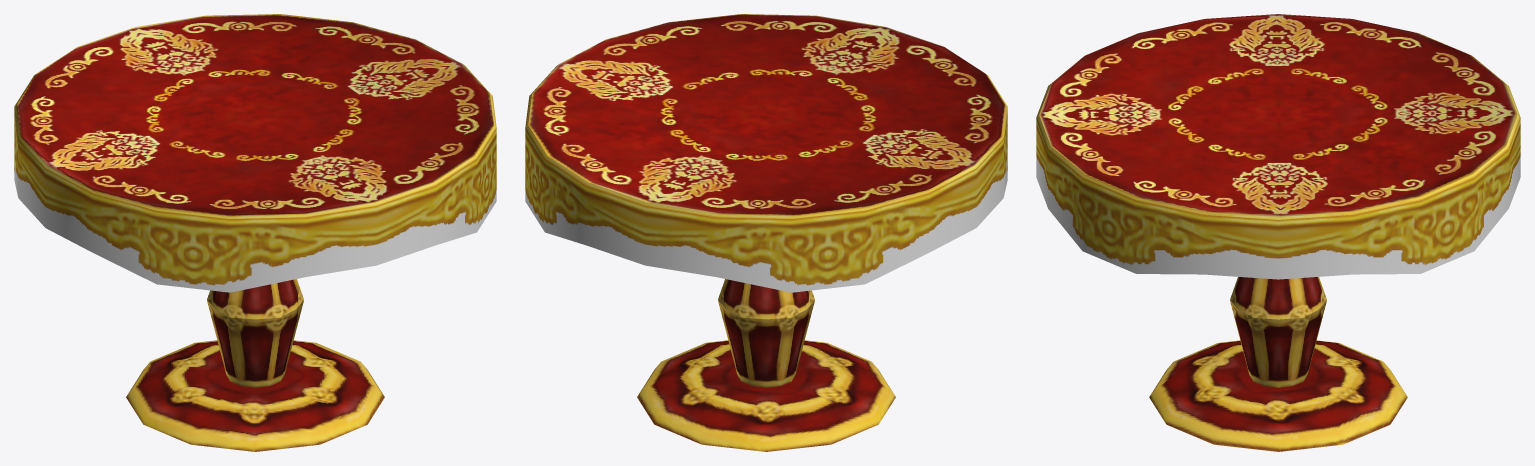
File: EmperorRoundTable_HD.fbx
3 renders of one model, left to right at view 1: azimuth 30°, elevation 25°; view 2: azimuth 150°, elevation 25°; view 3: azimuth 270°, elevation 25°, orthographic.
Parts seen in each view (by area): view 1: EmperorRoundTable; view 2: EmperorRoundTable; view 3: EmperorRoundTable.
Part boxes in pixels (bbox=[...]): EmperorRoundTable: bbox=[14, 14, 496, 451]; EmperorRoundTable: bbox=[525, 14, 1007, 451]; EmperorRoundTable: bbox=[1036, 14, 1520, 451].
Bounding box in the file's own units: 0.941 × 0.6049 × 0.941.
